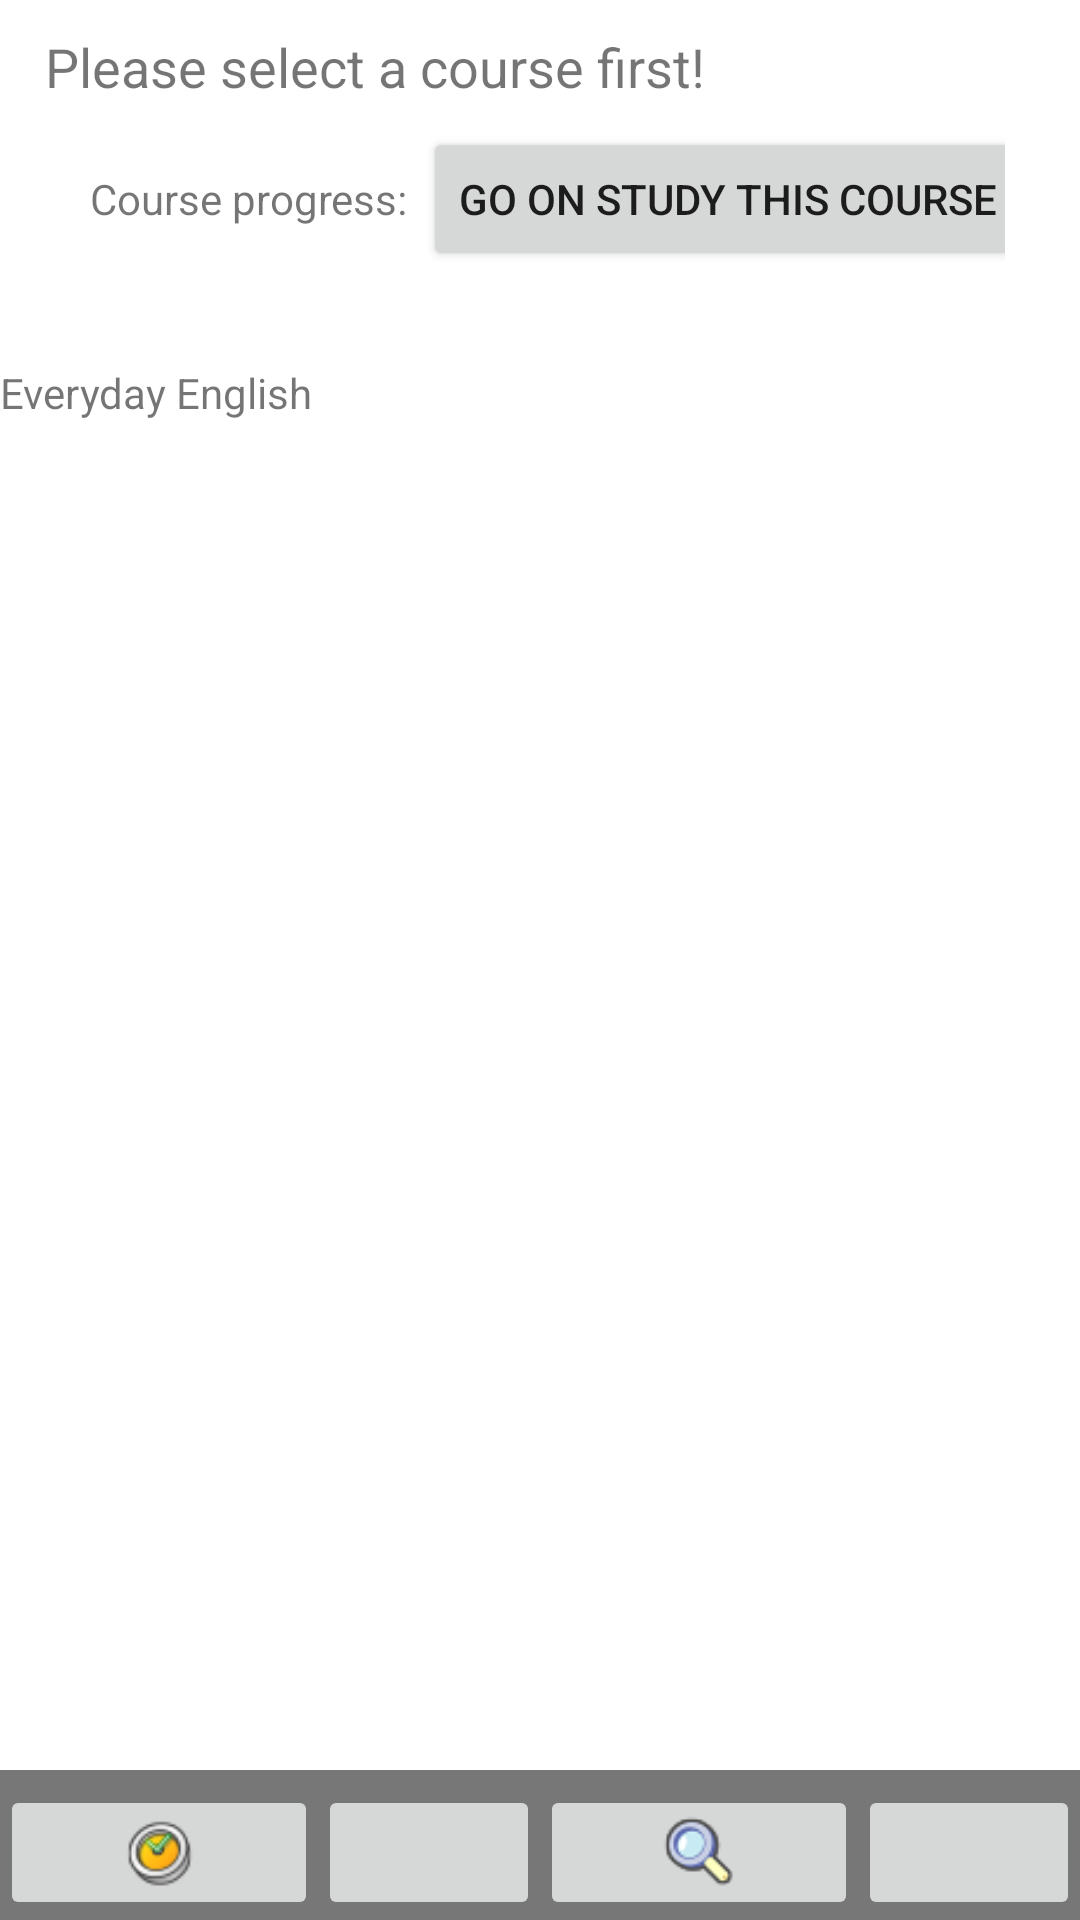

Named icons in this screenshot (1080 × 1920) and their centers, [x,y]:
clock: [159,1852]
search: [699,1852]
